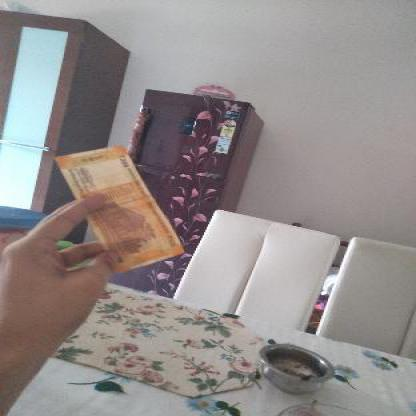New200Back: (52, 147, 184, 275)
